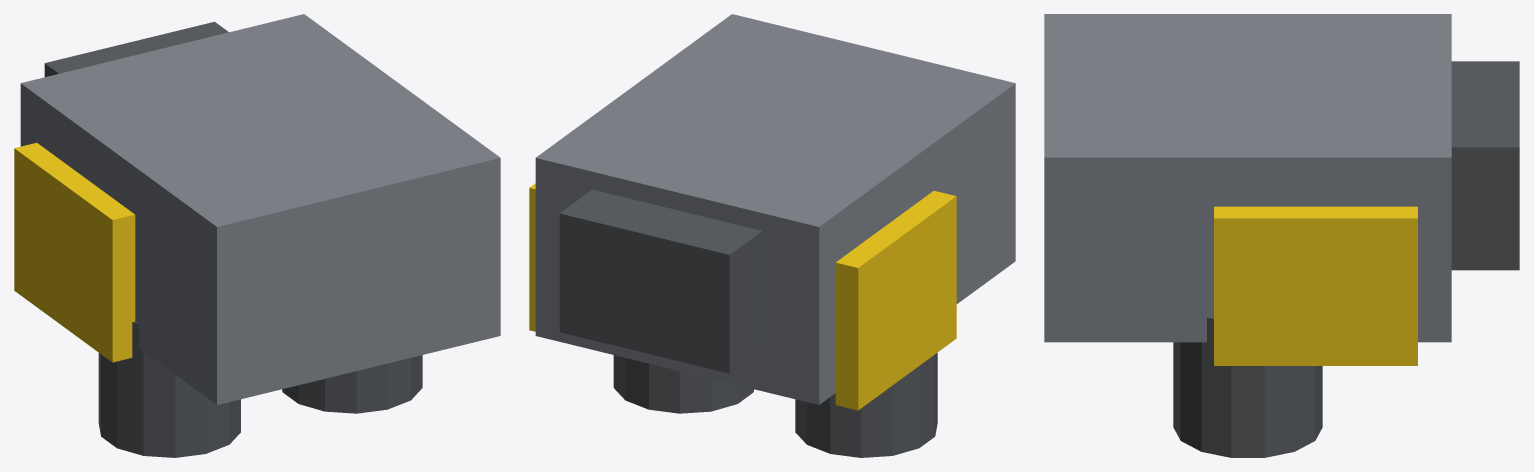
File: backpack-afterburner.glb
3 renders of one model, left to right at view 1: azimuth 30°, elevation 25°; view 2: azimuth 150°, elevation 25°; view 3: azimuth 270°, elevation 25°, orthographic. The views are drawn at different scales.
Parts seen in each view (by area): view 1: housing, fin_-1, bell_-1, bell_1, intake; view 2: housing, intake, fin_-1, bell_-1, bell_1, fin_1; view 3: housing, fin_1, intake, bell_1.
Boxes of the visible parts, left/top/right/bottom form: housing: left=20, top=14, right=500, bottom=404; fin_-1: left=14, top=142, right=135, bottom=362; bell_-1: left=98, top=321, right=240, bottom=457; bell_1: left=282, top=355, right=422, bottom=413; intake: left=44, top=21, right=228, bottom=76; housing: left=535, top=14, right=1015, bottom=404; intake: left=559, top=189, right=762, bottom=373; fin_-1: left=835, top=190, right=956, bottom=410; bell_-1: left=795, top=353, right=937, bottom=457; bell_1: left=613, top=355, right=754, bottom=413; fin_1: left=529, top=183, right=535, bottom=331; housing: left=1044, top=14, right=1451, bottom=342; fin_1: left=1214, top=206, right=1417, bottom=365; intake: left=1451, top=61, right=1519, bottom=270; bell_1: left=1173, top=317, right=1322, bottom=457.
Bounding box in the file's own units: 0.58 × 0.49 × 0.7.
